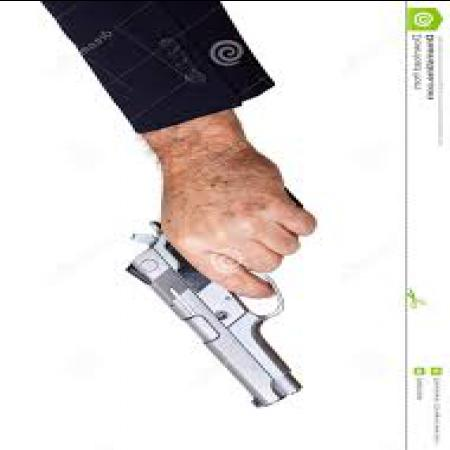Pistol: (118, 182, 314, 406)
